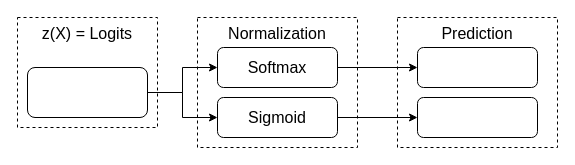
This 575x165 diagram has some shape labels left out. Each missing label, with the centre of its shape:
Argmax: the point at 477,67
Model: the point at 87,92
Threshold: the point at 477,117
